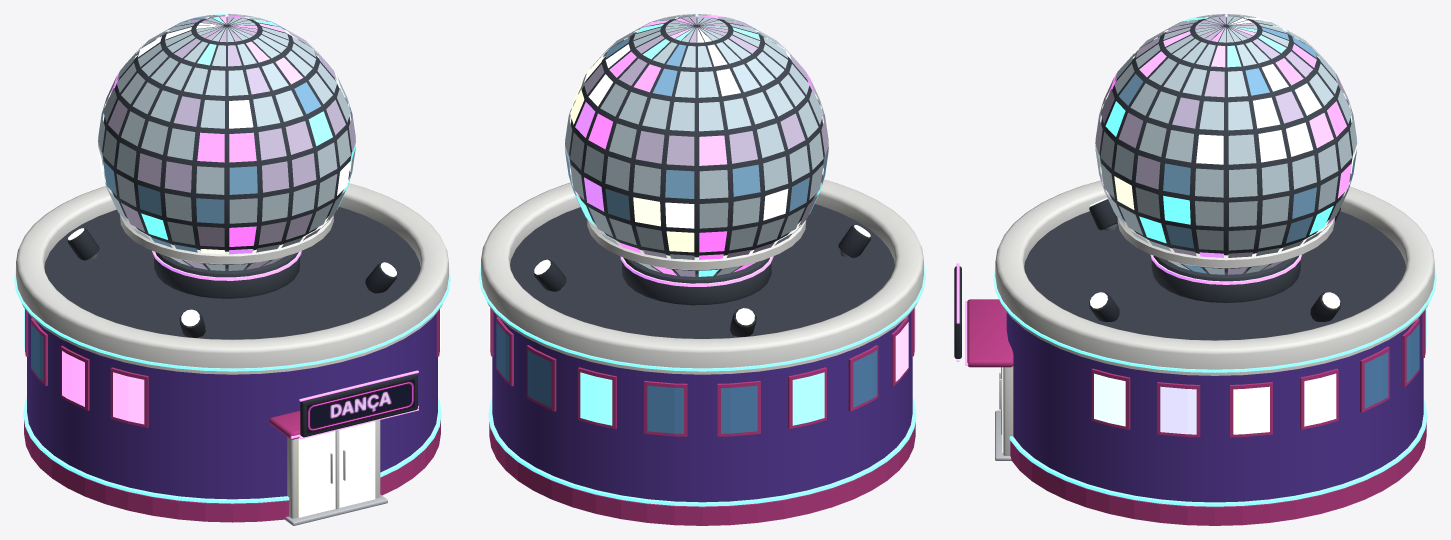
Rendered from discoteca_globo_roxa.glb.
3 renders of one model, left to right at view 1: azimuth 30°, elevation 25°; view 2: azimuth 150°, elevation 25°; view 3: azimuth 270°, elevation 25°, orthographic. The views are drawn at different scales.
Parts seen in each view (by area): view 1: discoteca_globo_roxa; view 2: discoteca_globo_roxa; view 3: discoteca_globo_roxa.
Part boxes in pixels (x1,y1,x2,y2): discoteca_globo_roxa: (14,14,450,525); discoteca_globo_roxa: (479,14,925,525); discoteca_globo_roxa: (954,14,1436,525).
Size of the model in its own units: 11.9 by 12.21 by 12.95.
Materials: 13 (2 with a texture image).
